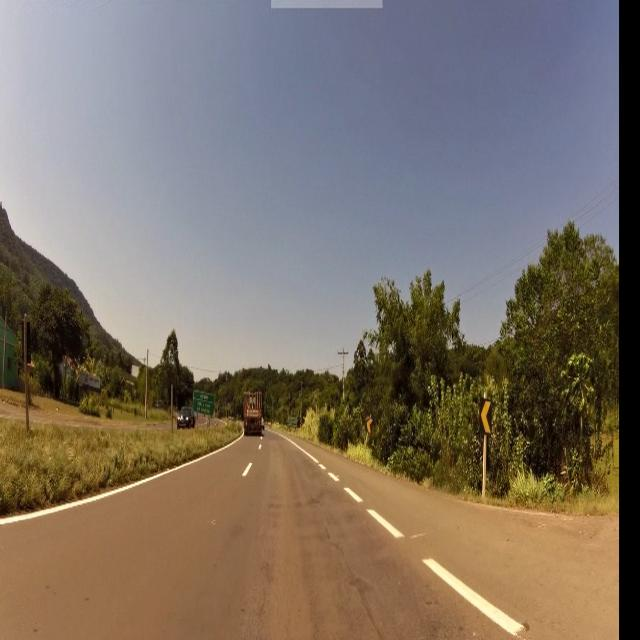Del: (482, 398, 494, 431), (367, 417, 373, 435)
I-4: (192, 392, 214, 416)
